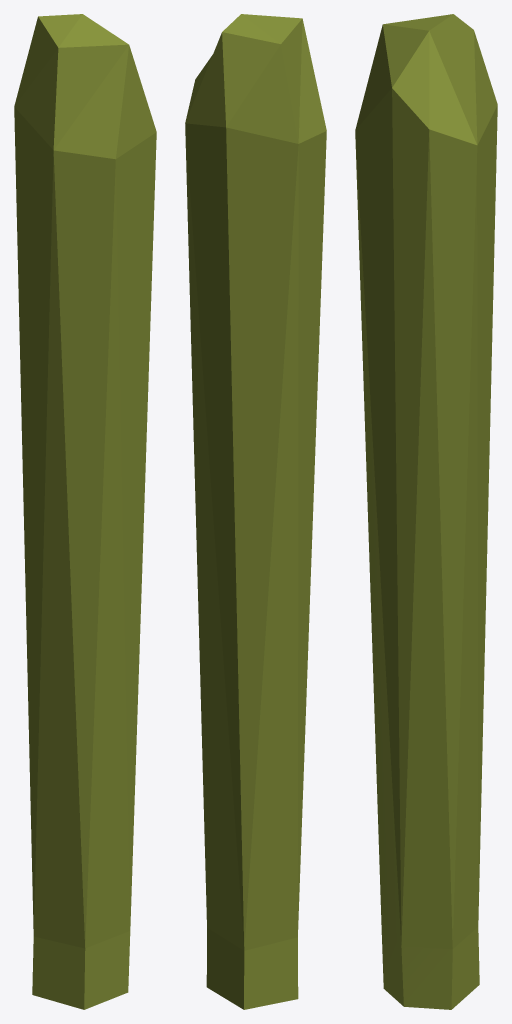
File: ea_swamp_grass_01a_pre__38__lev1.glb
3 renders of one model, left to right at view 1: azimuth 90°, elevation 25°; view 2: azimuth 150°, elevation 25°; view 3: azimuth 270°, elevation 25°, orthographic.
Visible parts, largest first — view 1: ea_swamp_grass_01a_pre__38__lev1; view 2: ea_swamp_grass_01a_pre__38__lev1; view 3: ea_swamp_grass_01a_pre__38__lev1.
Boxes of the visible parts, left/top/right/bottom form: ea_swamp_grass_01a_pre__38__lev1: left=14, top=14, right=156, bottom=1009; ea_swamp_grass_01a_pre__38__lev1: left=185, top=14, right=326, bottom=1009; ea_swamp_grass_01a_pre__38__lev1: left=355, top=14, right=497, bottom=1009.
Size of the model in its own units: 0.2528 by 1.99 by 0.2654.
Materials: 1 (1 with a texture image).
